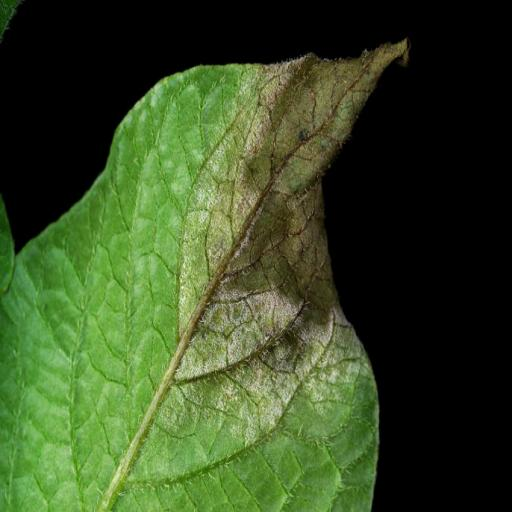disease_tomato: (0, 34, 413, 512)
